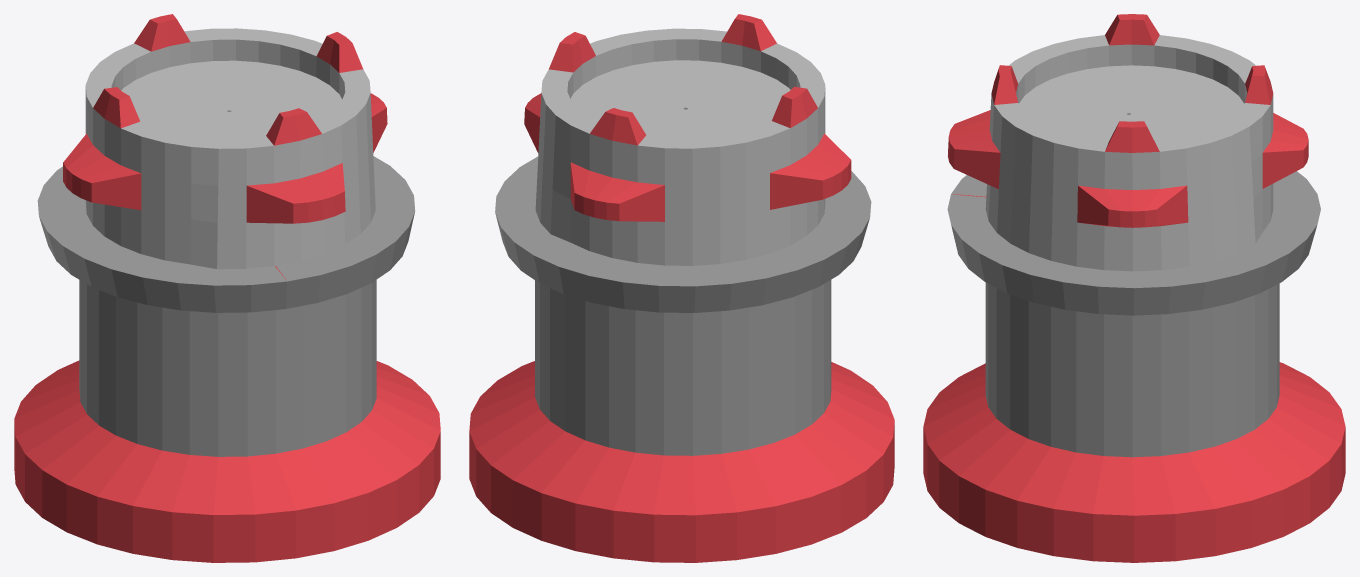
The model's file is tower1.fbx.
The picture shows the model from 3 angles, left to right: view 1: azimuth 30°, elevation 25°; view 2: azimuth 150°, elevation 25°; view 3: azimuth 270°, elevation 25°; orthographic projection.
Parts seen in each view (by area): view 1: Circle; view 2: Circle; view 3: Circle.
Part boxes in pixels (x1,y1,x2,y2): Circle: (14, 14, 440, 562); Circle: (469, 14, 894, 562); Circle: (923, 14, 1345, 562).
Size of the model in its own units: 200 by 211 by 200.
